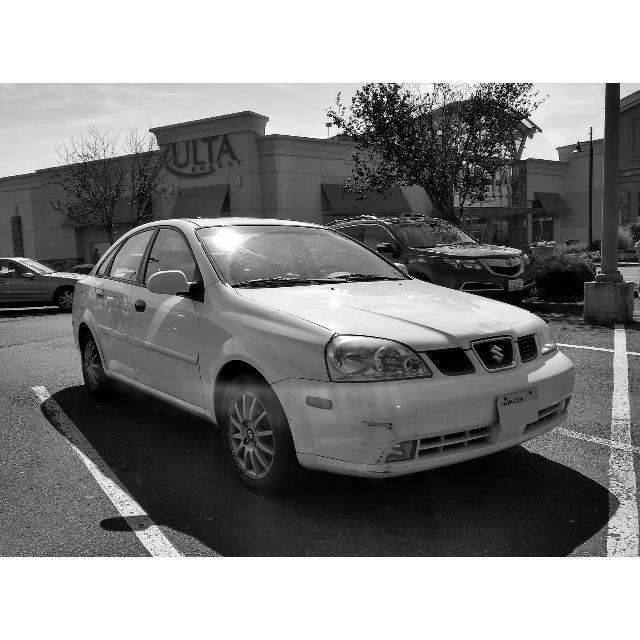front-bumper-dent: (301, 392, 520, 477)
